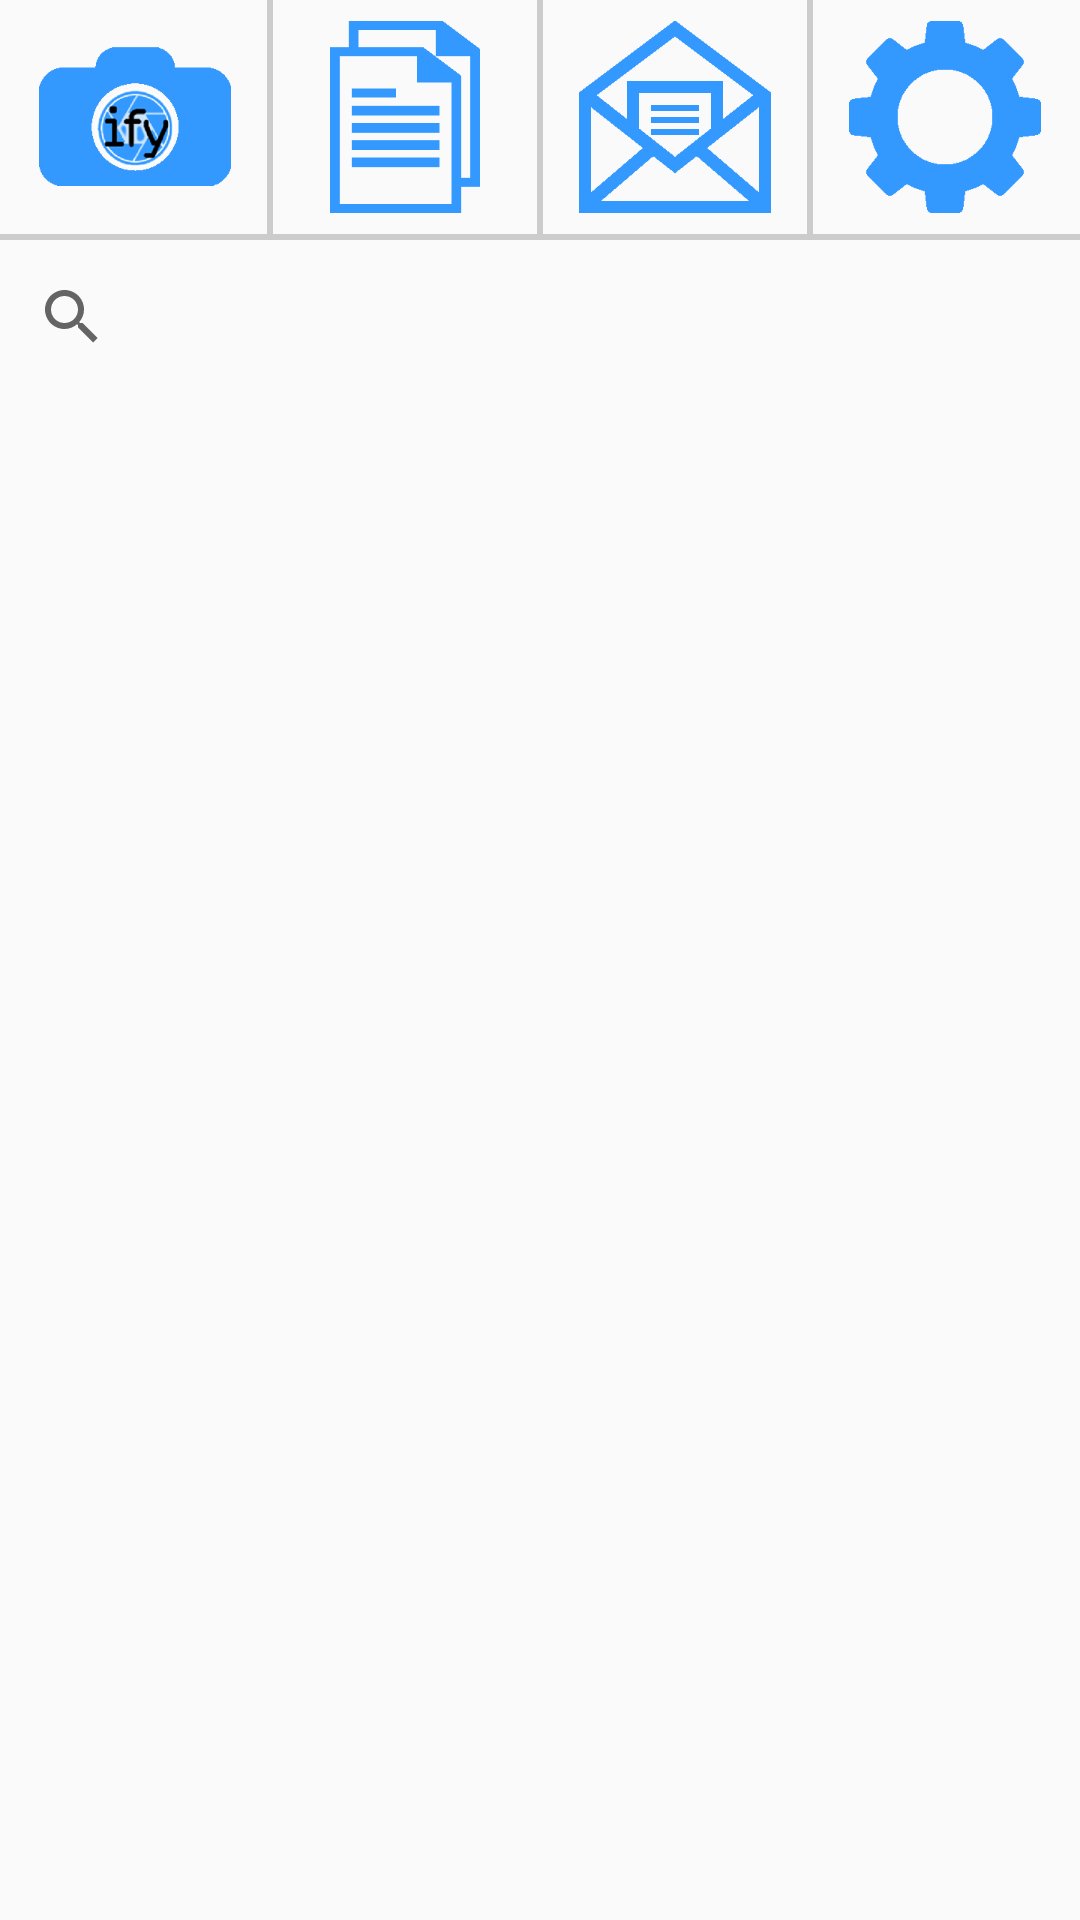

Named icons in this screenshot (1080px x 1920px) and their bounding boxes, region(x1, y1, x2, y2):
camera: region(0, 0, 267, 234)
file: region(273, 0, 537, 234)
gear: region(813, 0, 1080, 234)
